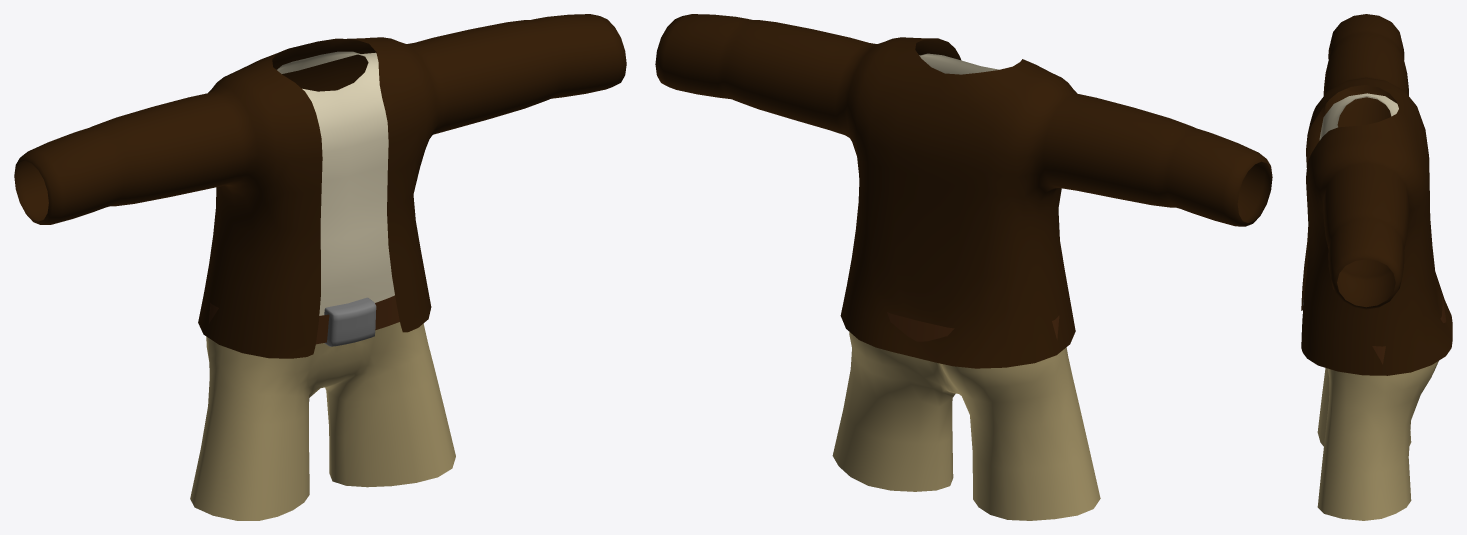
Rendered from indy-1.glb.
3 renders of one model, left to right at view 1: azimuth 30°, elevation 25°; view 2: azimuth 150°, elevation 25°; view 3: azimuth 270°, elevation 25°, orthographic. The views are drawn at different scales.
Parts seen in each view (by area): view 1: indy; view 2: indy; view 3: indy.
Boxes of the visible parts, x1,y1,x2,y2 form: indy: (14,14,626,520); indy: (655,14,1272,520); indy: (1301,14,1452,520).
Size of the model in its own units: 2.49 by 1.77 by 0.6542.
